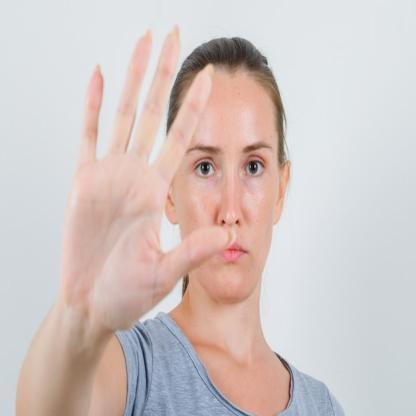stop: (58, 20, 238, 336)
